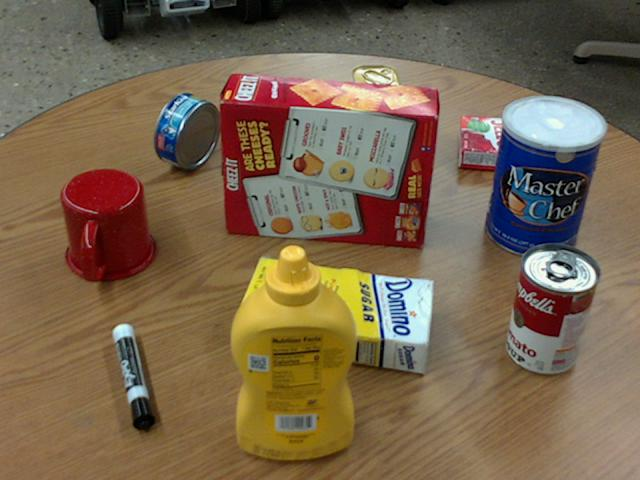cracker_box: (219, 75, 436, 247)
gelatin_box: (460, 113, 522, 171)
large_marker: (112, 324, 152, 428)
master_chef_can: (485, 95, 604, 257)
mug: (61, 169, 156, 280)
mustard_bottle: (229, 245, 354, 459)
potted_meat_can: (352, 64, 404, 162)
sugar_box: (235, 256, 435, 374)
tomato_soup_can: (506, 244, 599, 374)
tuna_fish_can: (154, 93, 219, 169)
